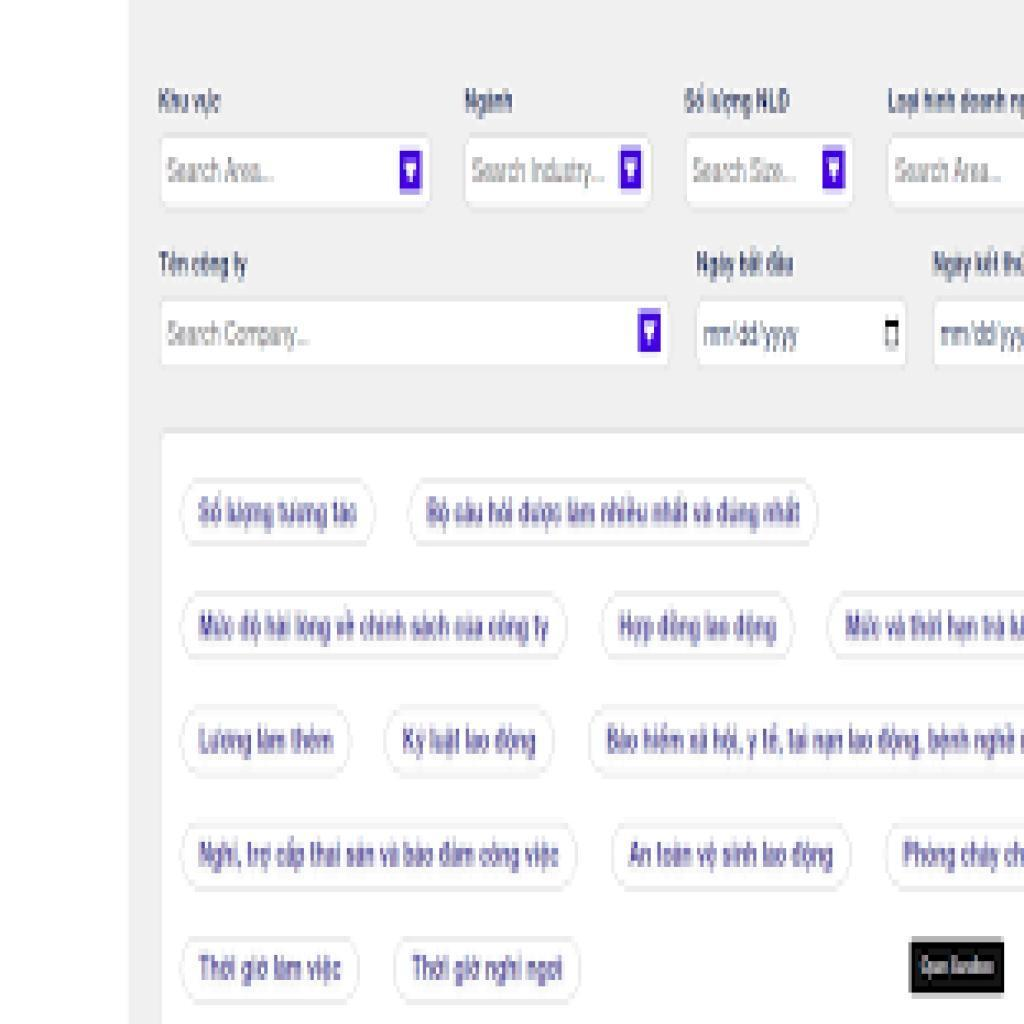dropdown: (165, 301, 672, 367), (161, 135, 432, 210), (467, 138, 655, 211), (687, 135, 853, 206)
label: (682, 77, 801, 125), (155, 247, 255, 289), (462, 84, 519, 128), (155, 87, 224, 122)
